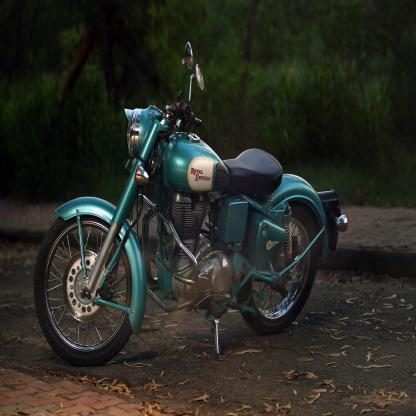bike: (37, 49, 345, 366)
